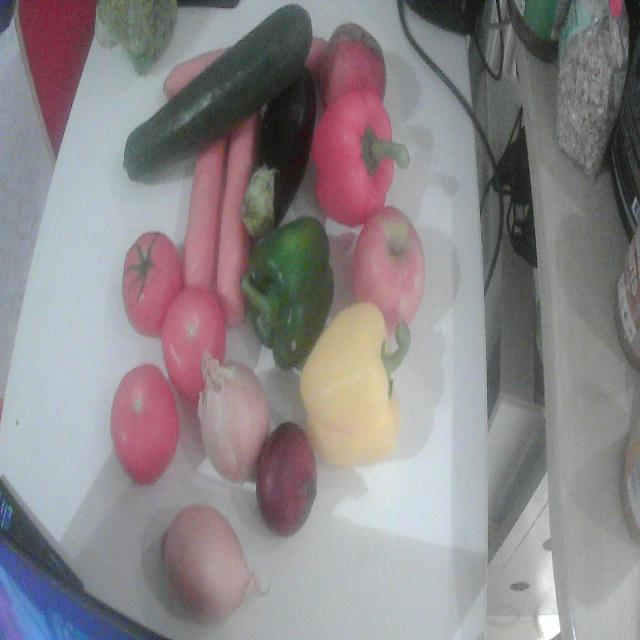Apple: (352, 206, 424, 331), (319, 23, 386, 105)
Bell Pepper: (300, 302, 410, 468), (241, 217, 334, 368), (311, 90, 410, 227)
Broccoli: (96, 0, 177, 64)
Carrot: (217, 118, 254, 326), (184, 137, 229, 291)
Courgette: (124, 4, 312, 182)
Eggplant: (242, 66, 316, 240)
Onion: (161, 505, 262, 623), (198, 353, 270, 483), (256, 423, 316, 536)
Tomato: (110, 365, 179, 484), (162, 287, 225, 410), (122, 232, 182, 336)
